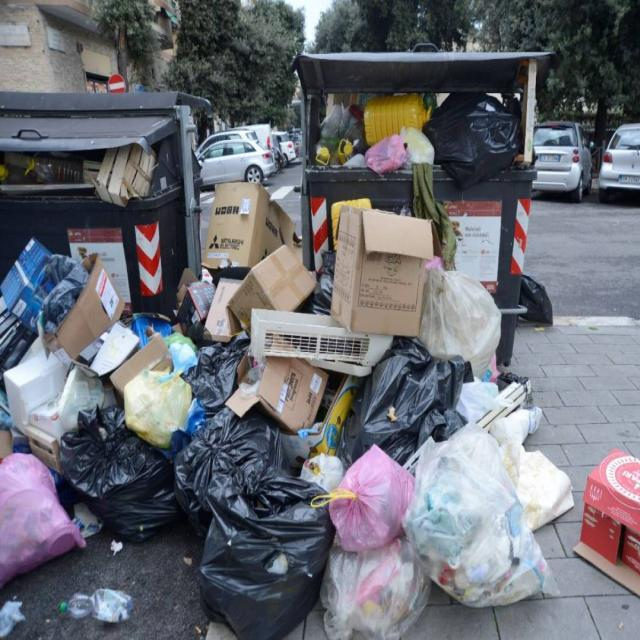Trashbag: (211, 500, 316, 628), (76, 413, 174, 535), (427, 88, 541, 189), (343, 372, 439, 470), (184, 418, 262, 495), (194, 344, 244, 418)
